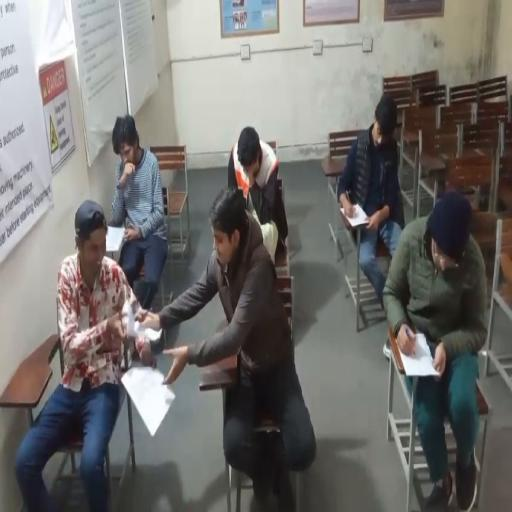paper: (122, 365, 174, 434), (399, 331, 440, 377), (126, 299, 162, 343), (341, 202, 370, 227), (104, 225, 126, 252)
